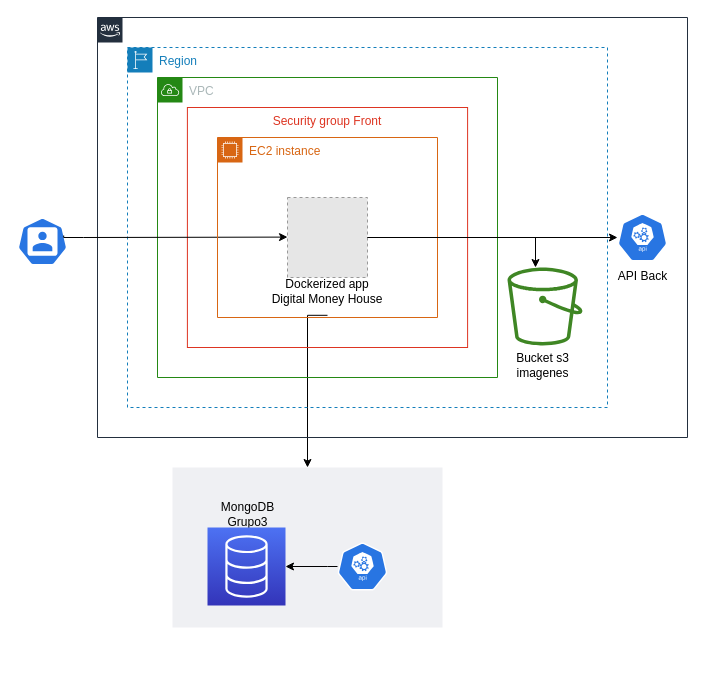
Image size: 705x689. Some labels were removed from this diagram. Grey dashed boxes stand in for pictures. The box of each missing label's shape, as (x1, y1, x2, y2) in pixels:
AWS Cloud: (96, 16, 688, 438)
MongoDb dbService: (172, 467, 442, 627)
